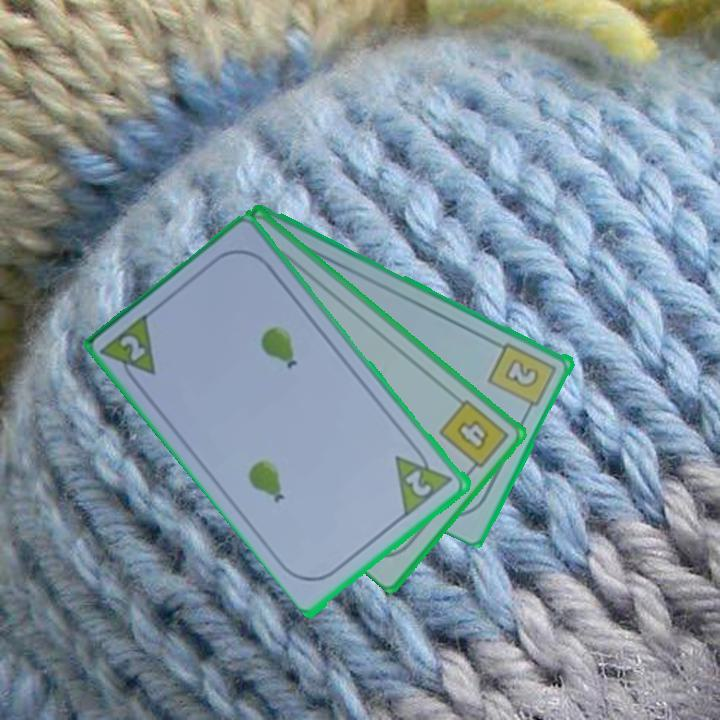2b: (485, 338, 560, 417)
2p: (391, 440, 457, 518), (117, 331, 150, 365)
4b: (435, 395, 512, 477)
